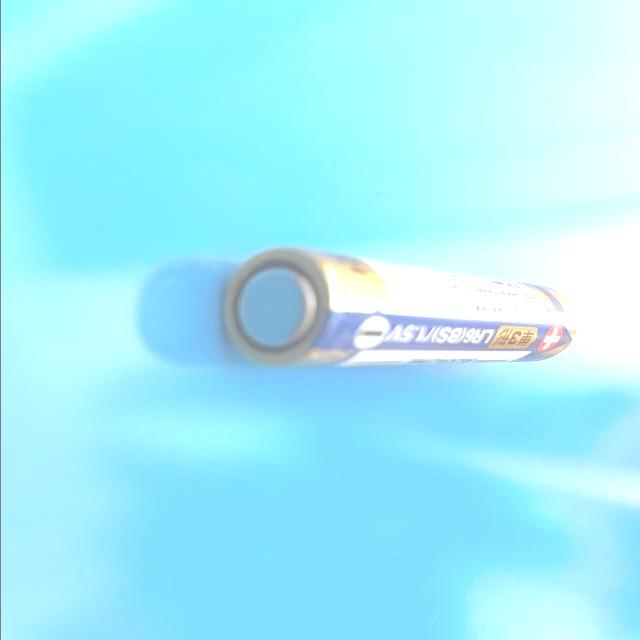AAA: (222, 244, 579, 369)
